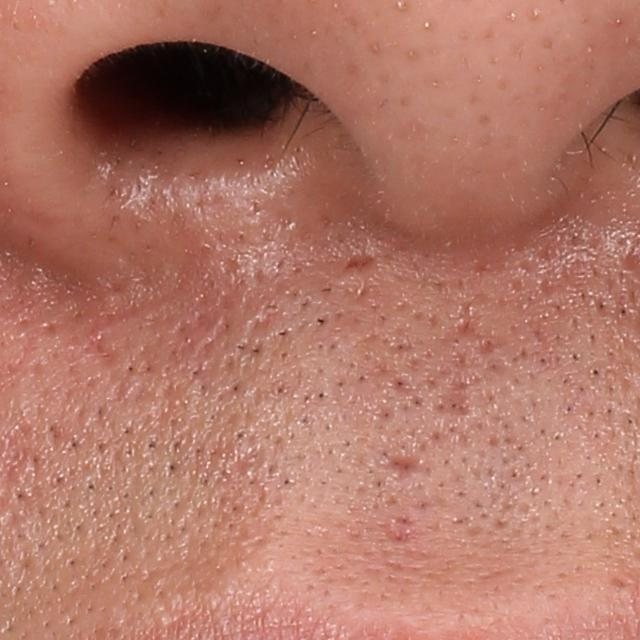atrophic_scar: (332, 246, 388, 286), (431, 389, 484, 425), (375, 450, 421, 482)
